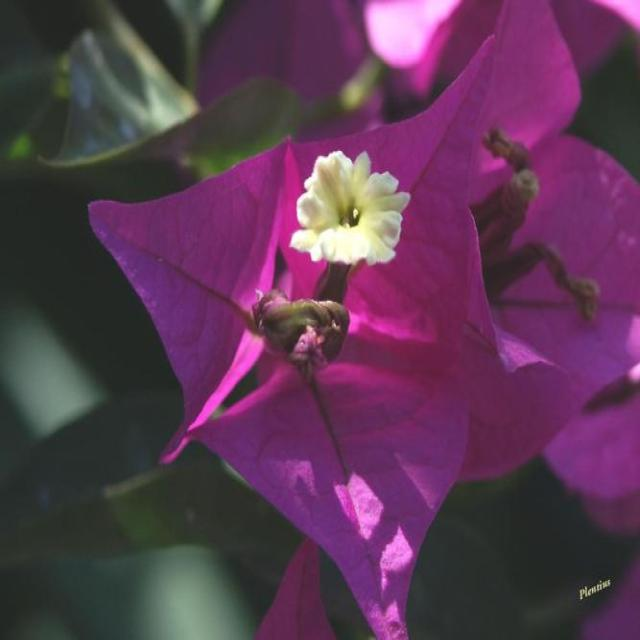bougainvillea: (72, 26, 527, 640)
